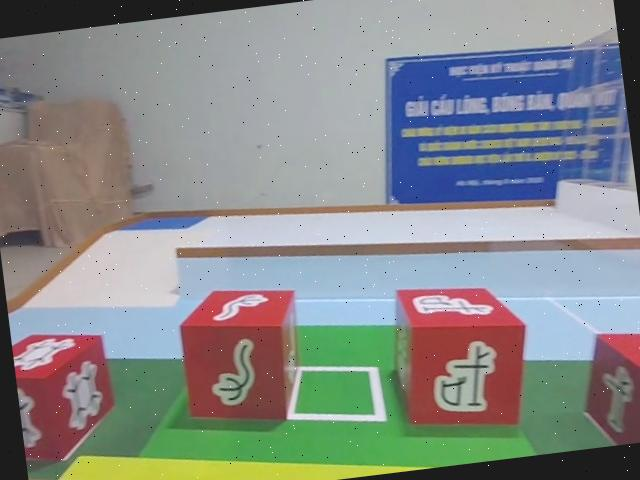R2 Real: (382, 268, 536, 438), (169, 274, 310, 433), (9, 316, 123, 474), (564, 315, 640, 450)
